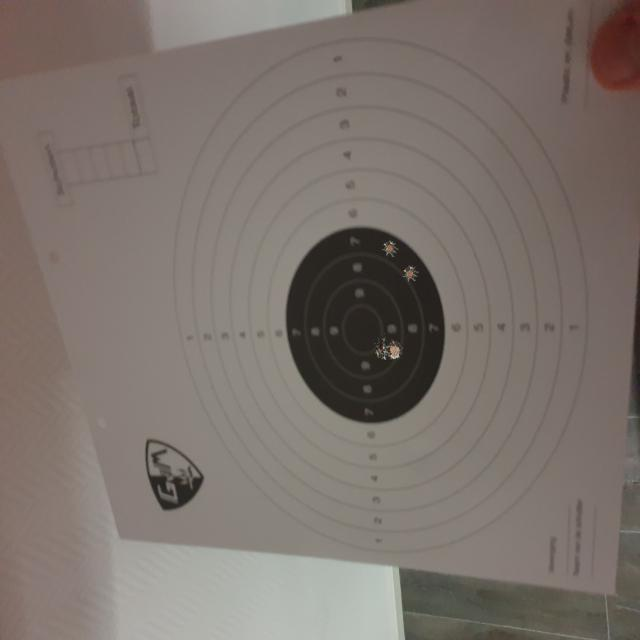10: (372, 334, 387, 361)
7: (381, 240, 398, 257)
8: (402, 265, 418, 283)
9: (387, 340, 403, 360)
Target: (172, 26, 590, 558)
black_contour: (285, 227, 445, 424)
